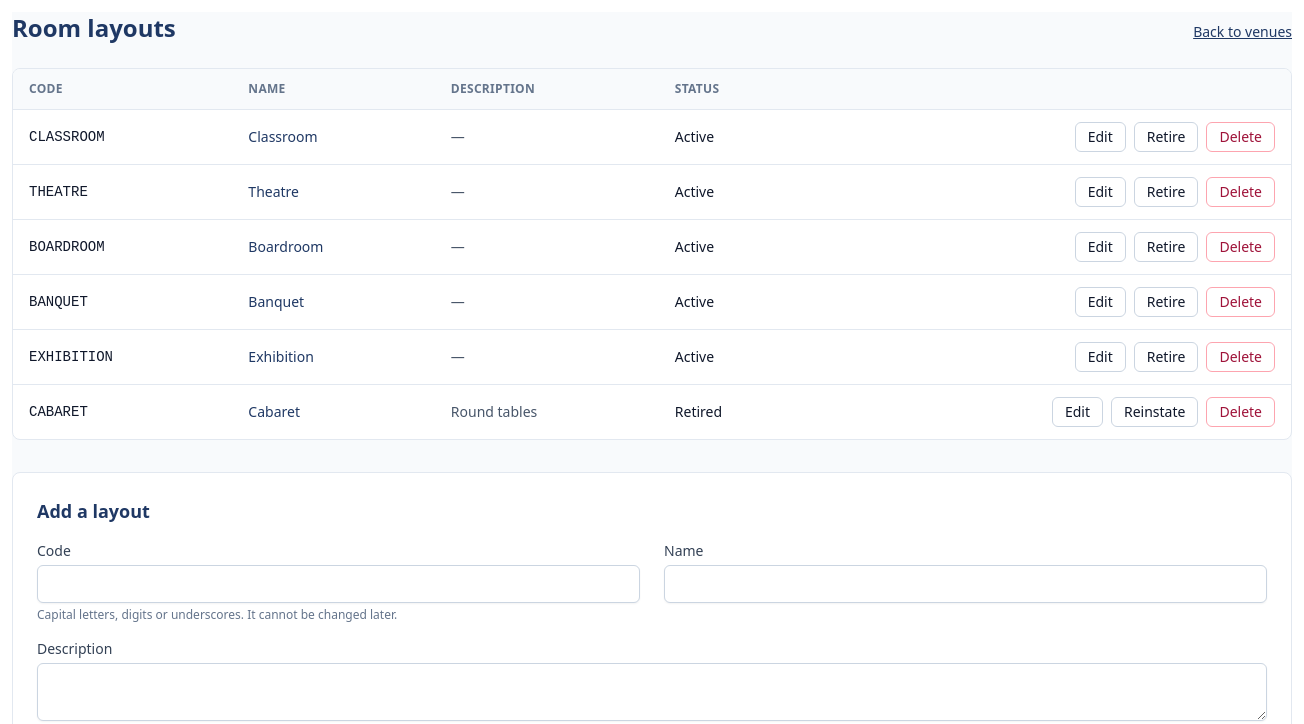
Test: RoomLayouts (SCRUM-91) › AC3: deletes an unused layout only after confirming
Click the button with aria-label "Delete Banquet": click(1241, 302) [1206, 287, 1275, 317]
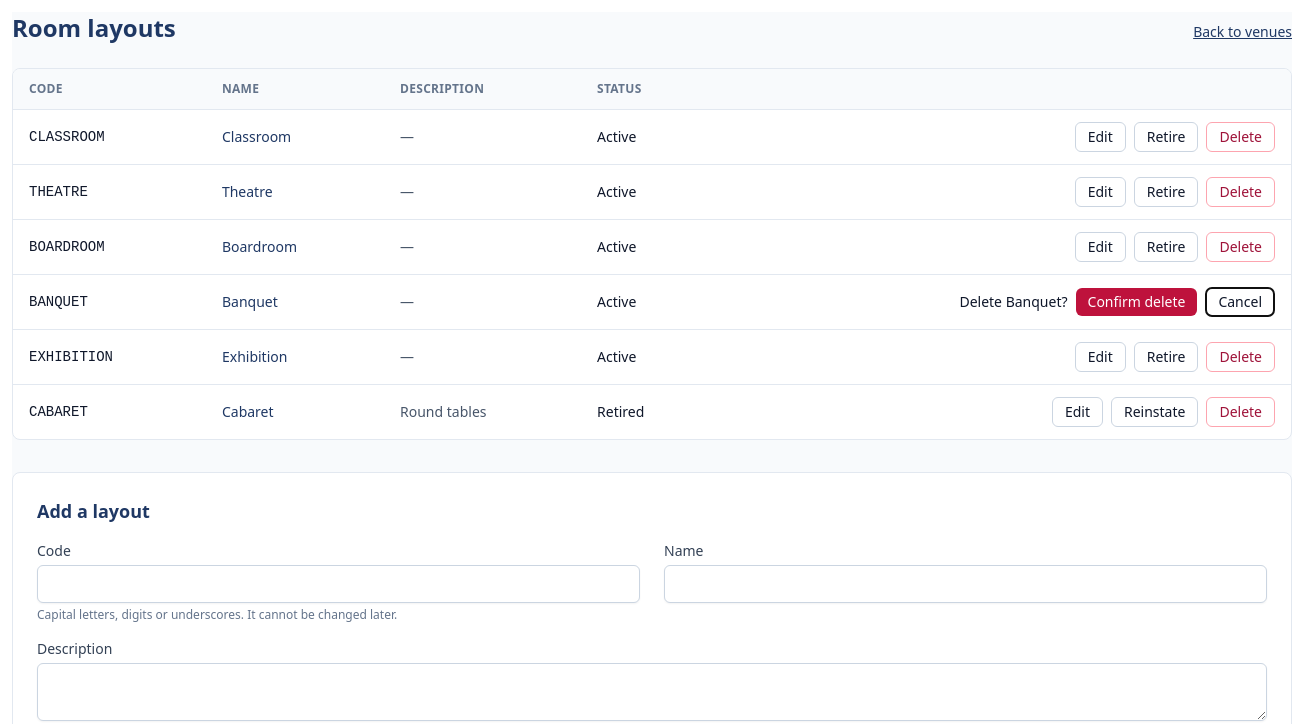
Click the button "Cancel": click(1240, 302) [1205, 287, 1275, 317]
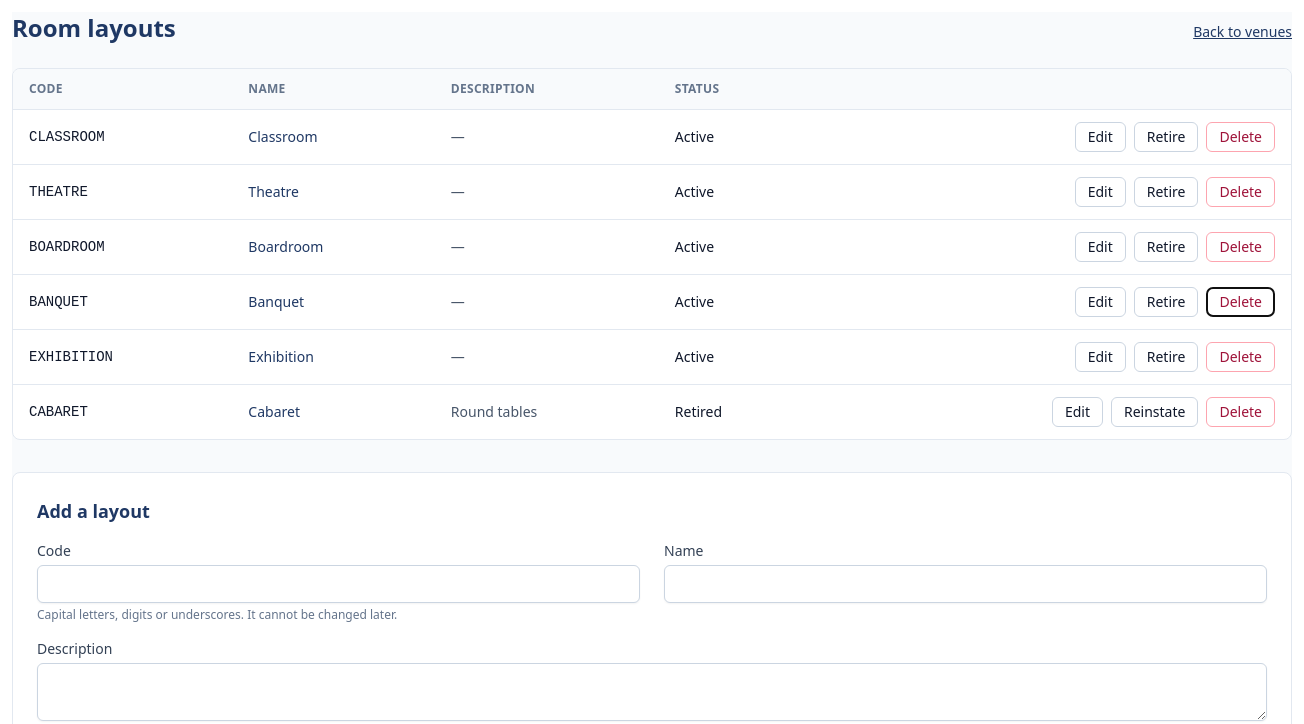
Click the button with aria-label "Delete Banquet": click(1241, 302) [1206, 287, 1275, 317]
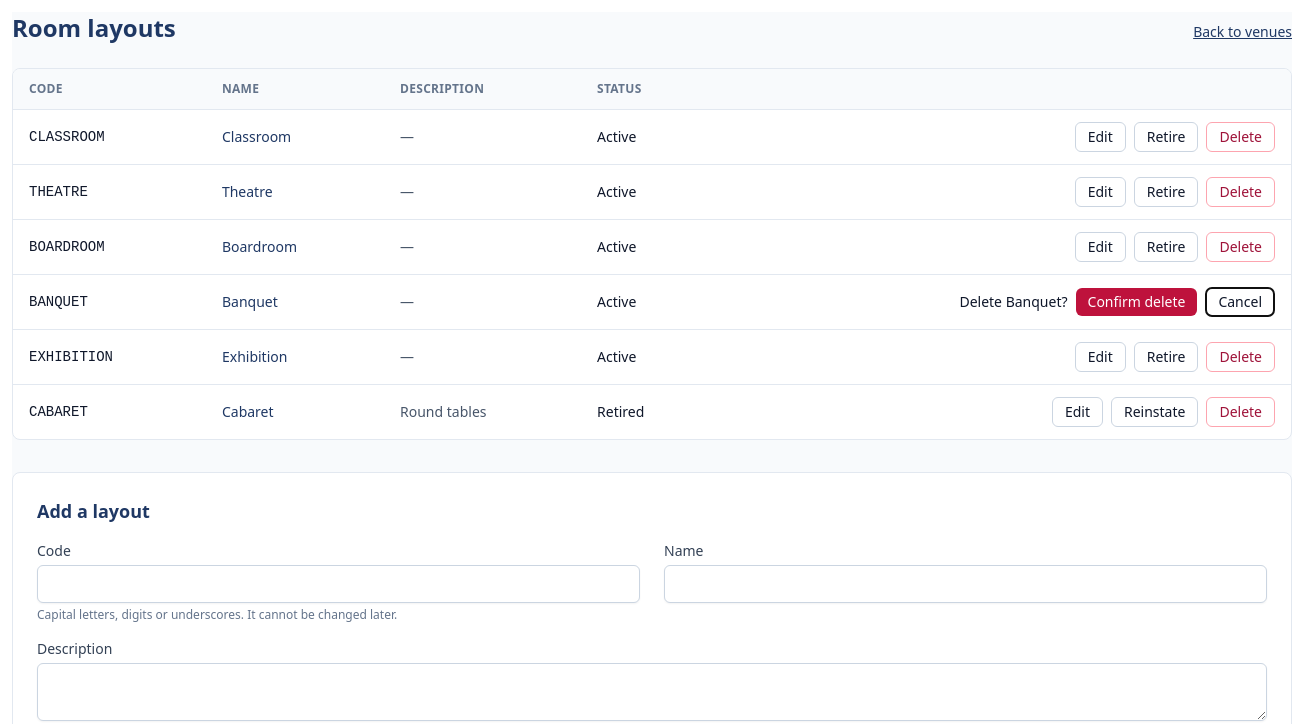
Click the button "Confirm delete": click(1136, 302) [1076, 288, 1197, 316]
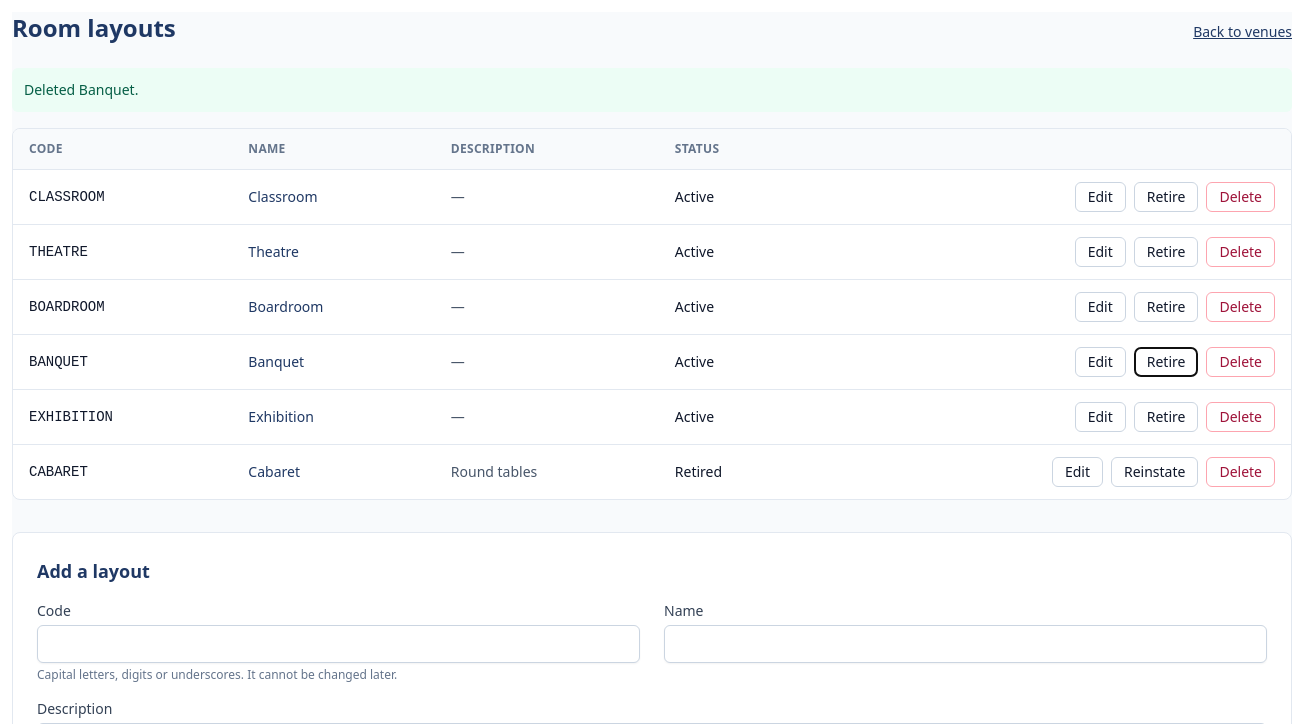
Expected: the message reads "Deleted Banquet.", [24, 80, 138, 99]
